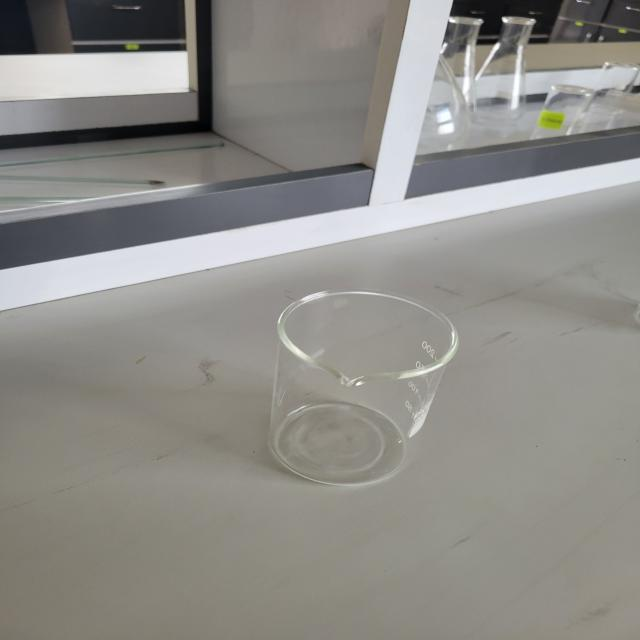Beaker: (264, 278, 464, 496)
